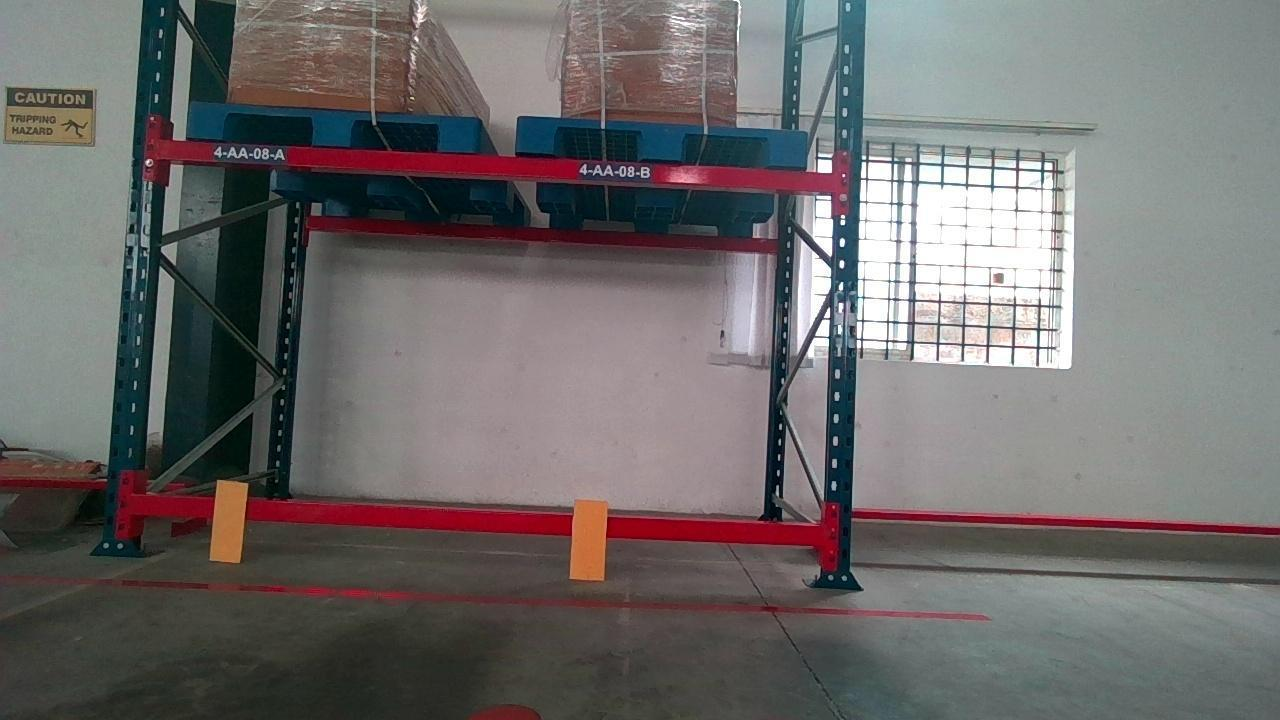h_rack: (171, 145, 832, 194), (127, 498, 824, 543)
orange_strip: (569, 498, 607, 579), (209, 480, 246, 560)
red_line: (8, 570, 998, 618)
small_pallet: (523, 117, 805, 160), (188, 105, 478, 146)
